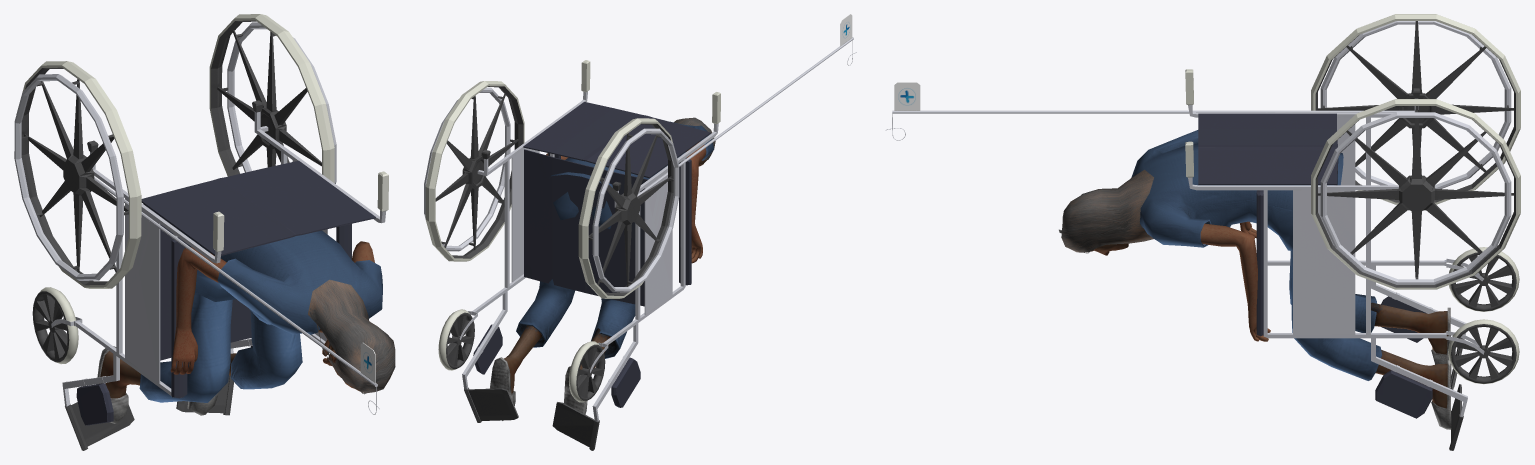
Rendered from PatientWheelChair.obj.
The picture shows the model from 3 angles, left to right: view 1: azimuth 30°, elevation 25°; view 2: azimuth 150°, elevation 25°; view 3: azimuth 270°, elevation 25°; orthographic projection. The views are drawn at different scales.
Visible parts, largest first — view 1: PatientWheelChair; view 2: PatientWheelChair; view 3: PatientWheelChair.
Part boxes in pixels (bbox=[...]): PatientWheelChair: bbox=[14, 14, 395, 450]; PatientWheelChair: bbox=[424, 14, 856, 450]; PatientWheelChair: bbox=[885, 14, 1520, 450].
Size of the model in its own units: 0.6375 by 1.12 by 1.78.
Materials: 2 (2 with a texture image).
